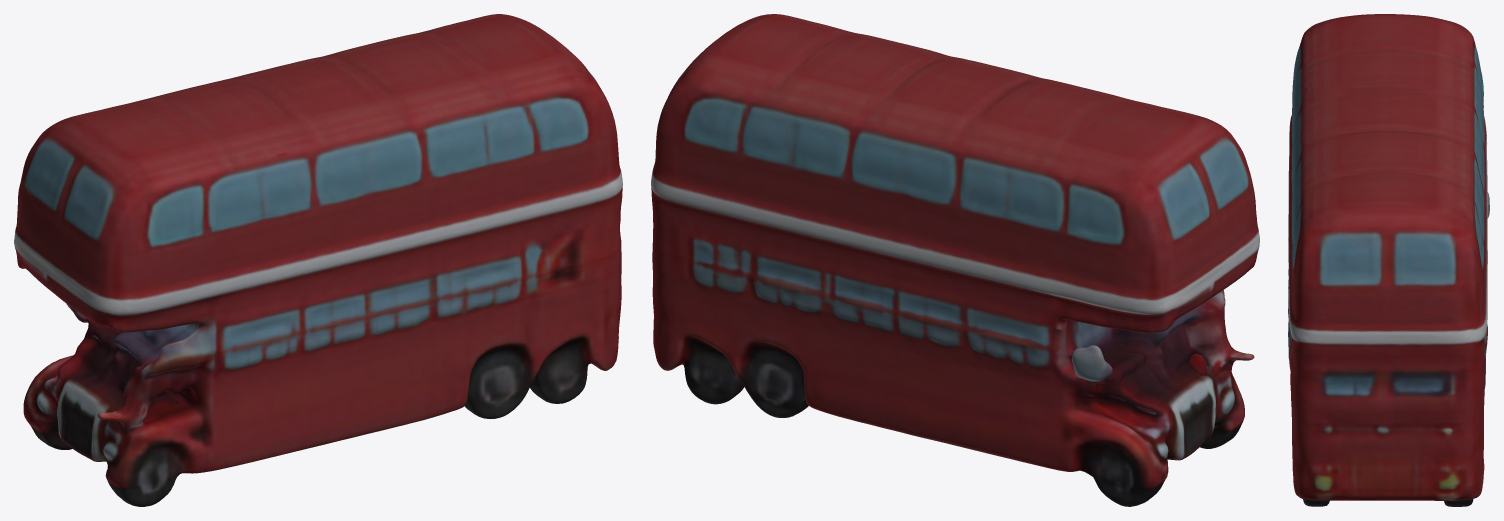
File: 967a1efef1fb_red_british_double_.fbx
3 renders of one model, left to right at view 1: azimuth 30°, elevation 25°; view 2: azimuth 150°, elevation 25°; view 3: azimuth 270°, elevation 25°, orthographic. The views are drawn at different scales.
Parts seen in each view (by area): view 1: high_poly; view 2: high_poly; view 3: high_poly.
Part boxes in pixels (x1,y1,x2,y2): high_poly: (14, 14, 622, 506); high_poly: (651, 14, 1259, 506); high_poly: (1288, 14, 1489, 506).
Size of the model in its own units: 100 by 61.45 by 36.4.
